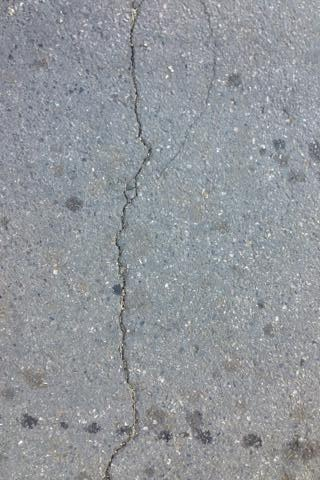A: (102, 2, 162, 480), (170, 1, 223, 165)
